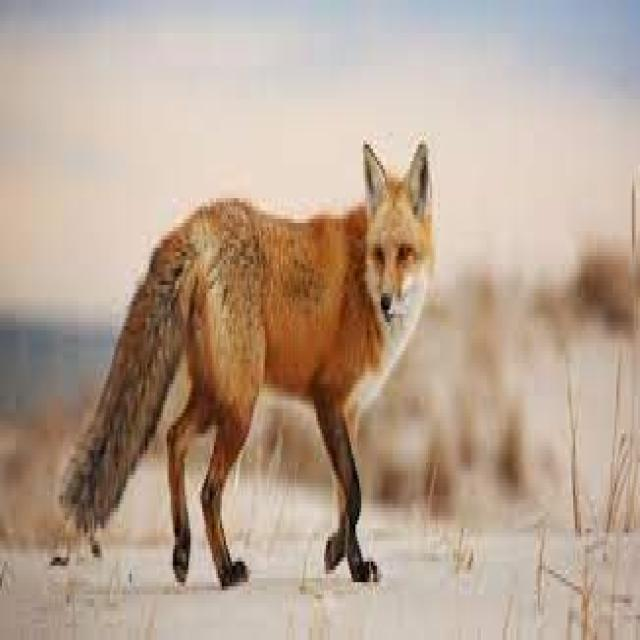cat: (51, 118, 440, 610)
